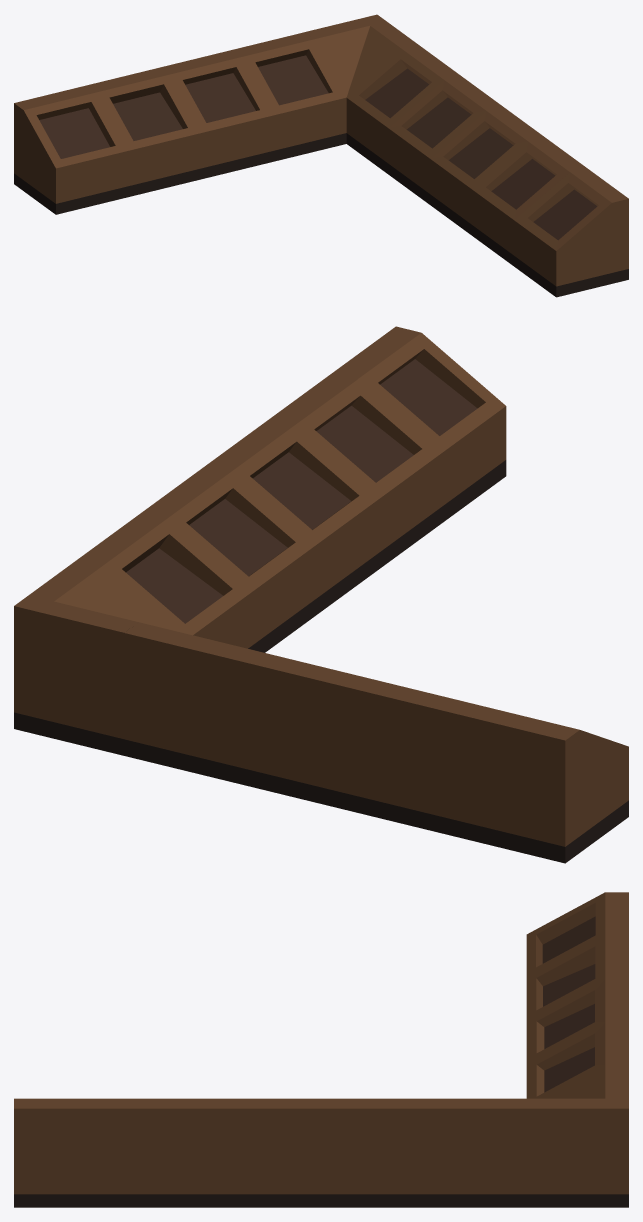
Rendered from bacsBois_corner4.fbx.
The picture shows the model from 3 angles, top to bottom: view 1: azimuth 30°, elevation 25°; view 2: azimuth 150°, elevation 25°; view 3: azimuth 270°, elevation 25°; orthographic projection. The views are drawn at different scales.
Parts seen in each view (by area): view 1: Cube.014; view 2: Cube.014; view 3: Cube.014.
Part boxes in pixels (x1,y1,x2,y2): Cube.014: (14, 14, 628, 297); Cube.014: (14, 326, 628, 863); Cube.014: (14, 892, 628, 1207).
Size of the model in its own units: 500 by 107 by 600.
